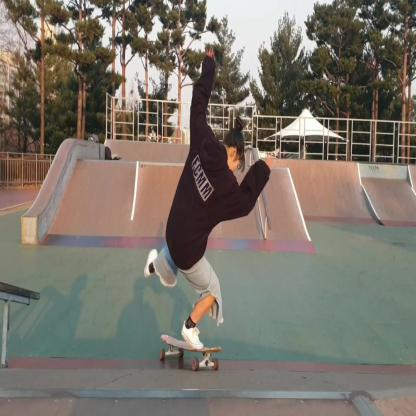Fall_Down: (145, 45, 277, 355)
